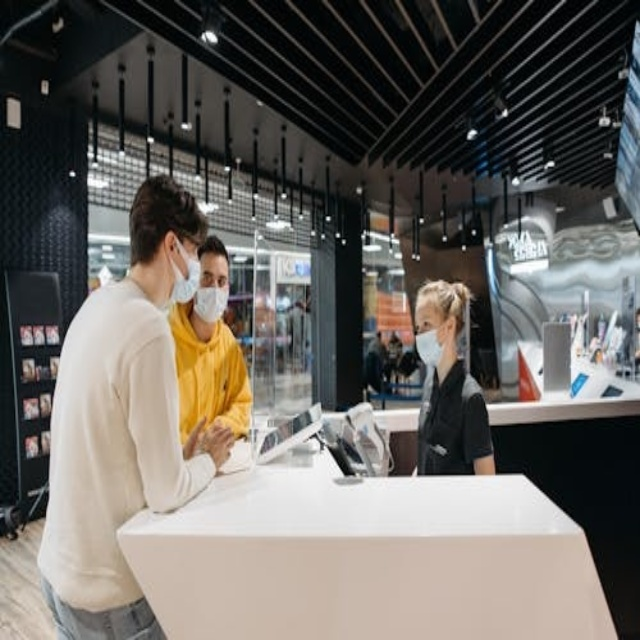Mascara: (165, 237, 202, 308), (192, 281, 229, 324), (415, 322, 449, 367)
Sin_gafas: (410, 307, 443, 335), (199, 271, 229, 289)
Sin_guantes: (194, 415, 242, 469)
